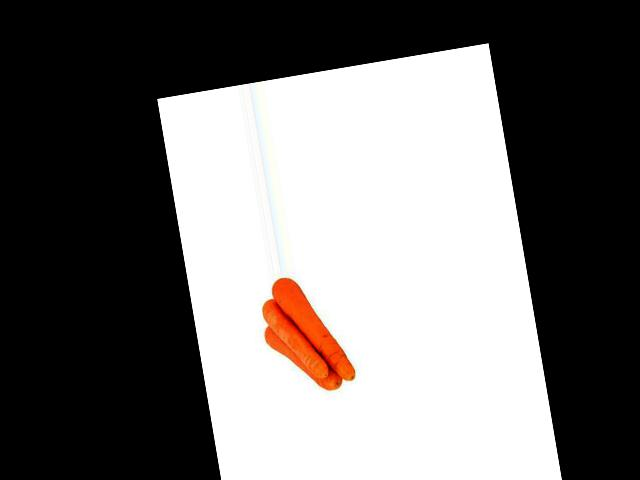carrot: (259, 291, 331, 389)
